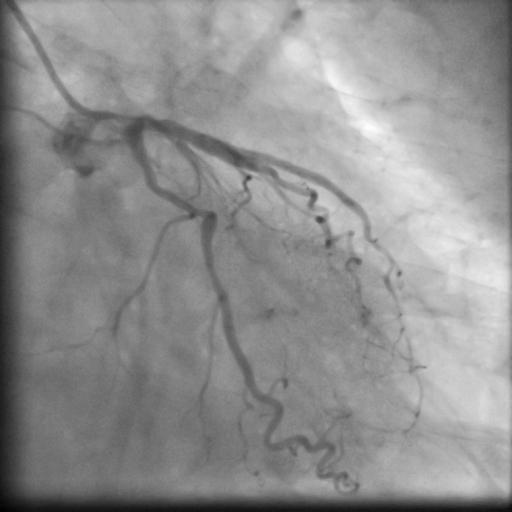Stenosis: (185, 197, 214, 228)
